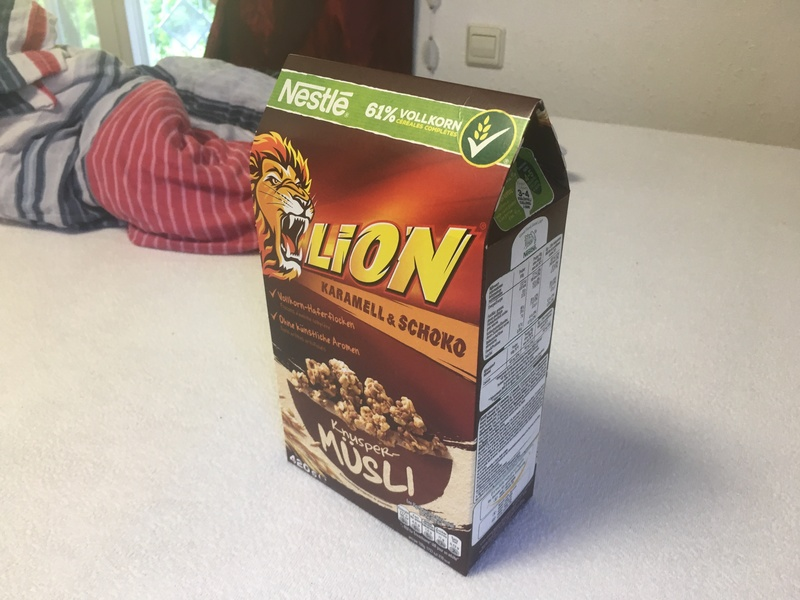cereals: (248, 53, 570, 572)
